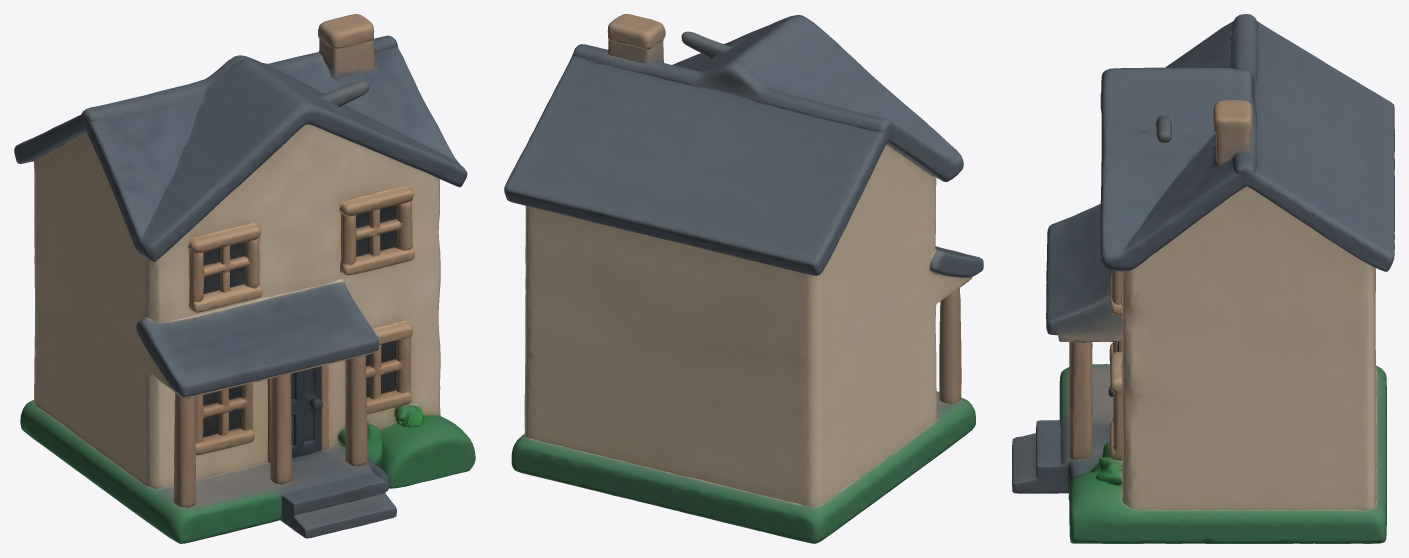
The model's file is house_family.glb.
3 renders of one model, left to right at view 1: azimuth 30°, elevation 25°; view 2: azimuth 150°, elevation 25°; view 3: azimuth 270°, elevation 25°, orthographic. The views are drawn at different scales.
Parts seen in each view (by area): view 1: Mesh; view 2: Mesh; view 3: Mesh.
Boxes of the visible parts, x1=… form: Mesh: x1=14, y1=14, x2=475, y2=543; Mesh: x1=504, y1=14, x2=983, y2=543; Mesh: x1=1012, y1=14, x2=1394, y2=543.
Bounding box in the file's own units: 1.58 × 1.89 × 1.59.
Materials: 1 (1 with a texture image).
